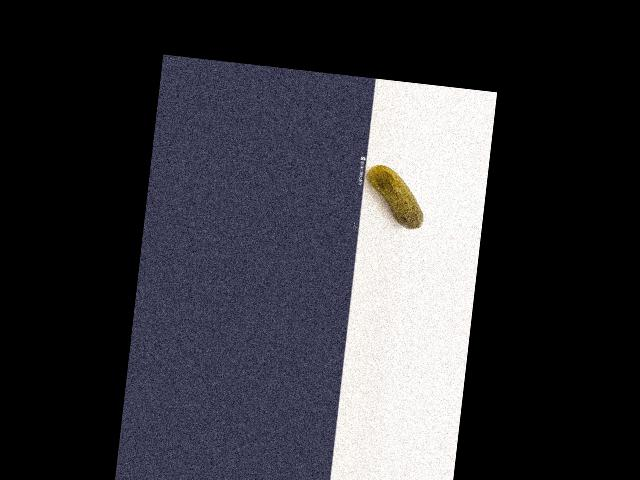cucumber: (362, 163, 428, 230)
